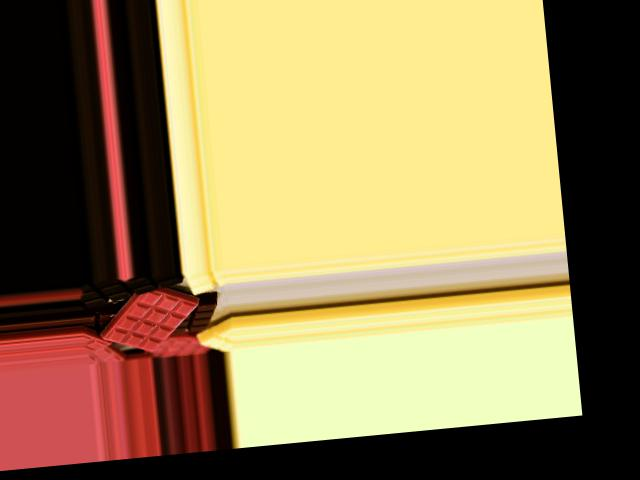chocolate: (95, 270, 202, 359)
